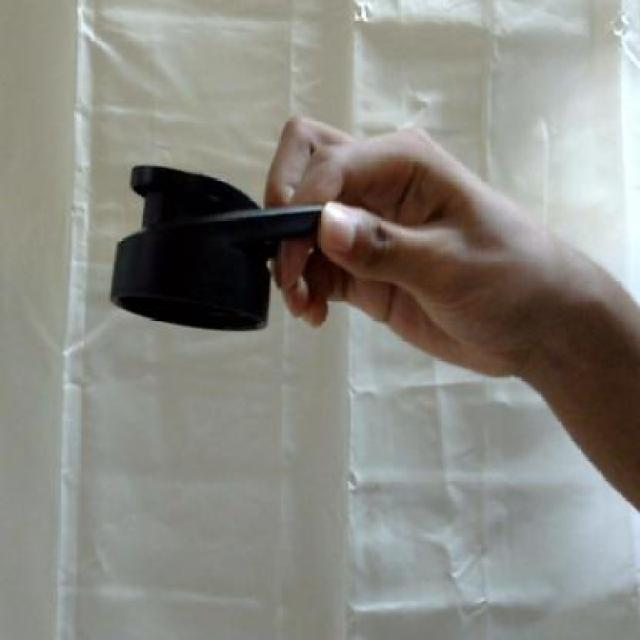Plastic: (102, 163, 277, 332)
